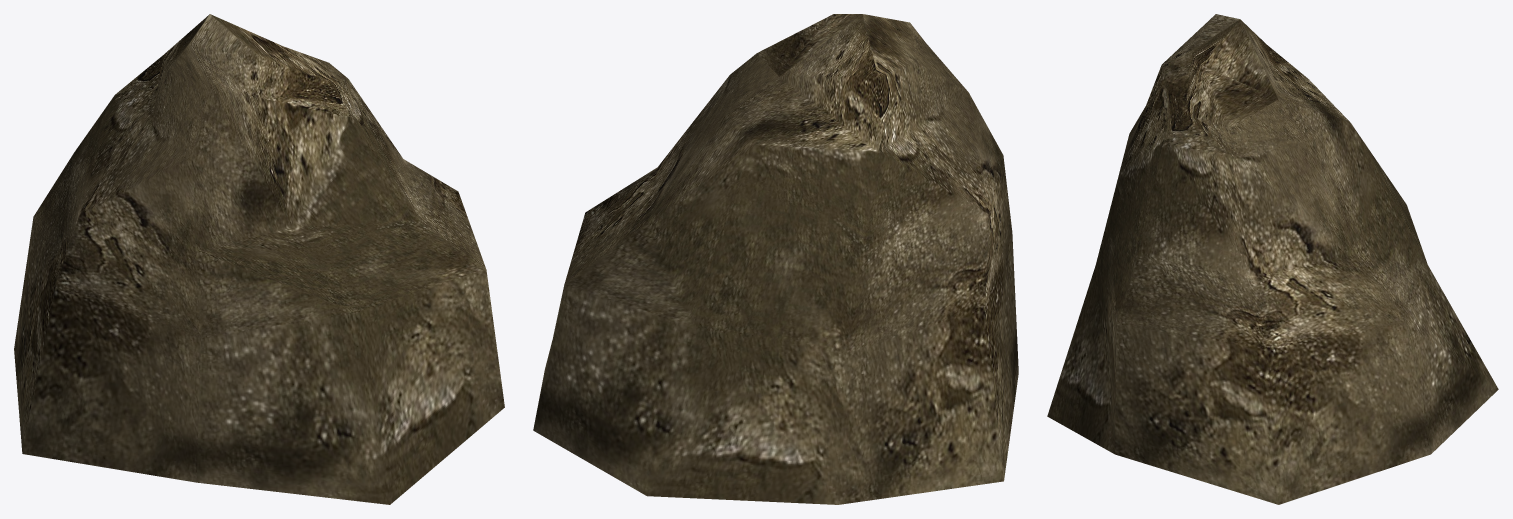
The model's file is mound_lavacave_med.fbx.
The picture shows the model from 3 angles, left to right: view 1: azimuth 30°, elevation 25°; view 2: azimuth 150°, elevation 25°; view 3: azimuth 270°, elevation 25°; orthographic projection. The views are drawn at different scales.
Visible parts, largest first — view 1: mound_med_high; view 2: mound_med_high; view 3: mound_med_high.
Boxes of the visible parts, <box> form: mound_med_high: <box>14,14,504,504</box>; mound_med_high: <box>533,14,1018,504</box>; mound_med_high: <box>1047,14,1498,504</box>.
Bounding box in the file's own units: 15562 × 13649 × 15161.
Materials: 1 (1 with a texture image).
